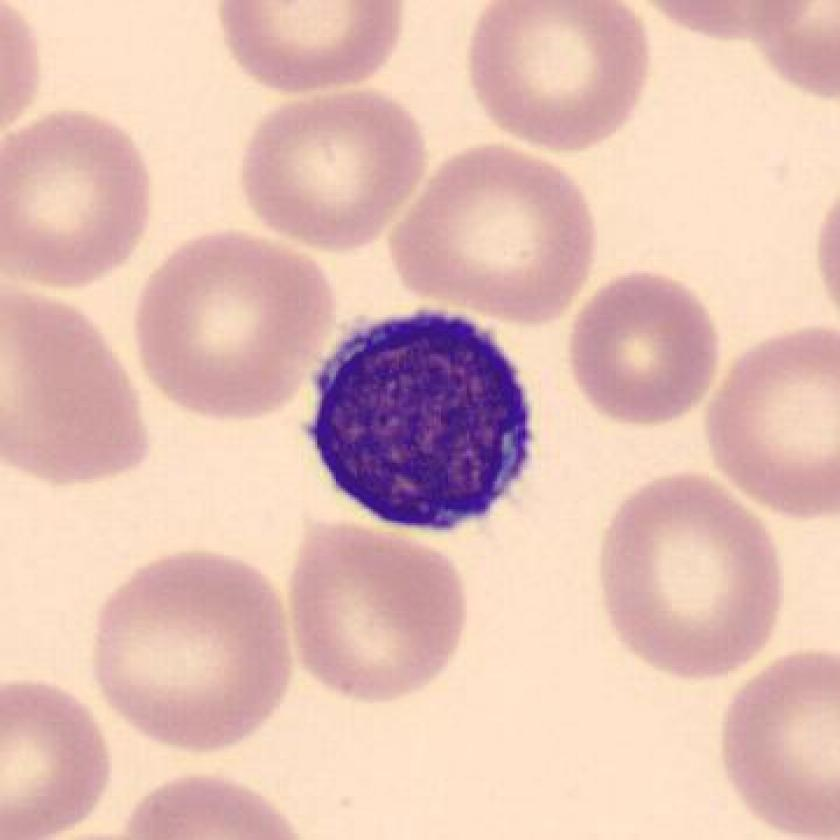lymphocyte: (295, 298, 549, 550)
